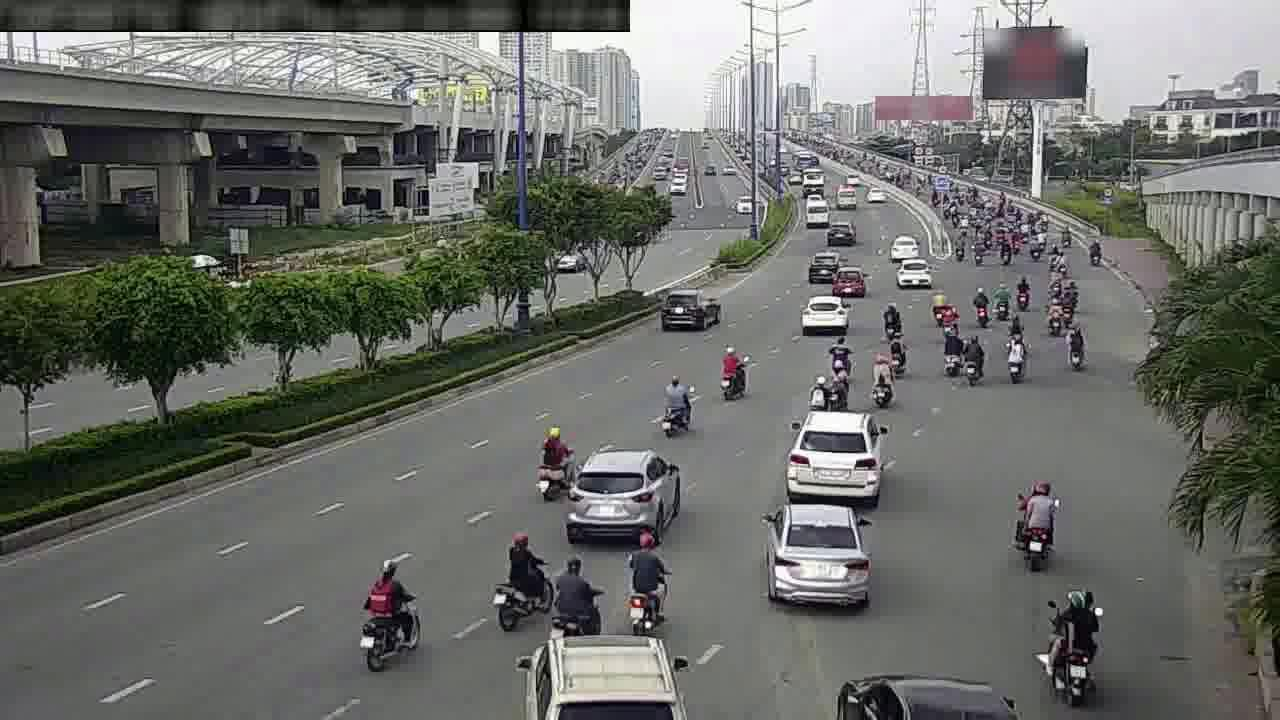container: (760, 486, 870, 603), (568, 438, 680, 534), (781, 404, 886, 501), (657, 285, 717, 335), (796, 288, 849, 335), (893, 254, 934, 290), (802, 246, 841, 283), (834, 264, 869, 299)
motorbike: (1036, 569, 1108, 700), (350, 556, 424, 671), (492, 526, 556, 627), (544, 549, 604, 644), (619, 536, 674, 632), (1010, 477, 1061, 567), (527, 423, 577, 505), (654, 370, 698, 438), (711, 339, 752, 405), (935, 325, 969, 380), (865, 354, 898, 409), (998, 329, 1031, 383), (1058, 319, 1091, 372), (958, 330, 990, 384), (928, 291, 960, 334), (876, 295, 906, 339), (882, 330, 911, 375), (823, 332, 852, 375), (967, 285, 995, 329), (1039, 294, 1067, 336), (1001, 306, 1029, 346), (1011, 272, 1036, 313), (990, 282, 1015, 322), (826, 370, 847, 413), (809, 370, 830, 413), (1059, 276, 1083, 313)
